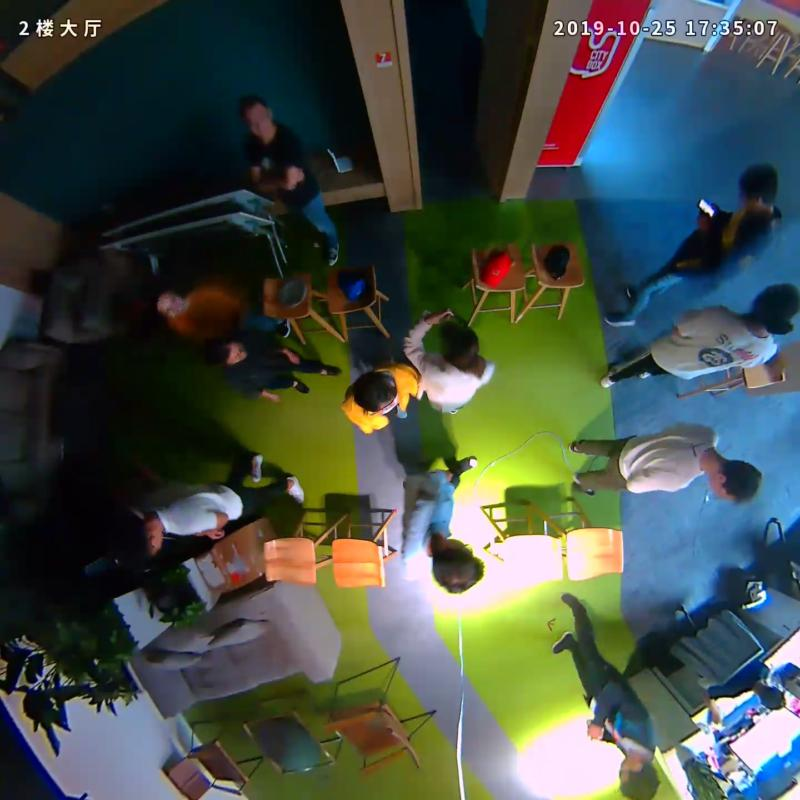head: (432, 539, 484, 594), (115, 514, 165, 560), (352, 370, 400, 416), (751, 284, 800, 328), (710, 460, 761, 502), (441, 315, 479, 368), (740, 163, 779, 210), (239, 95, 273, 139), (144, 282, 184, 319), (203, 338, 247, 368)
